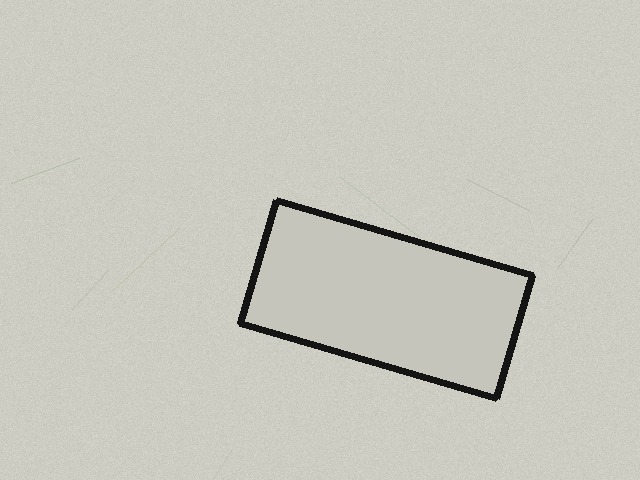parking_area: (240, 200, 532, 398)
